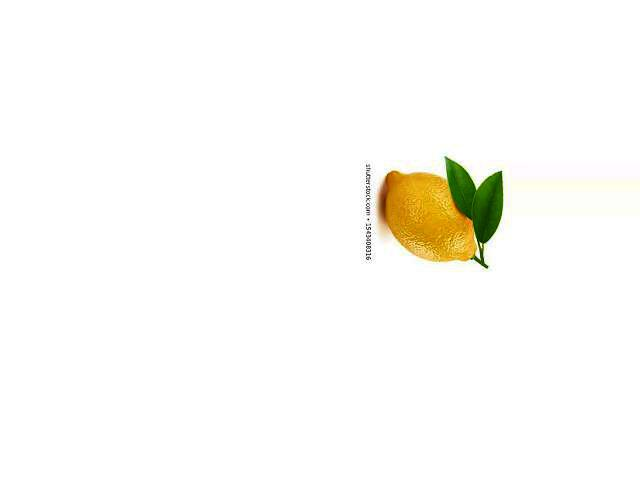lemon: (383, 162, 481, 265)
